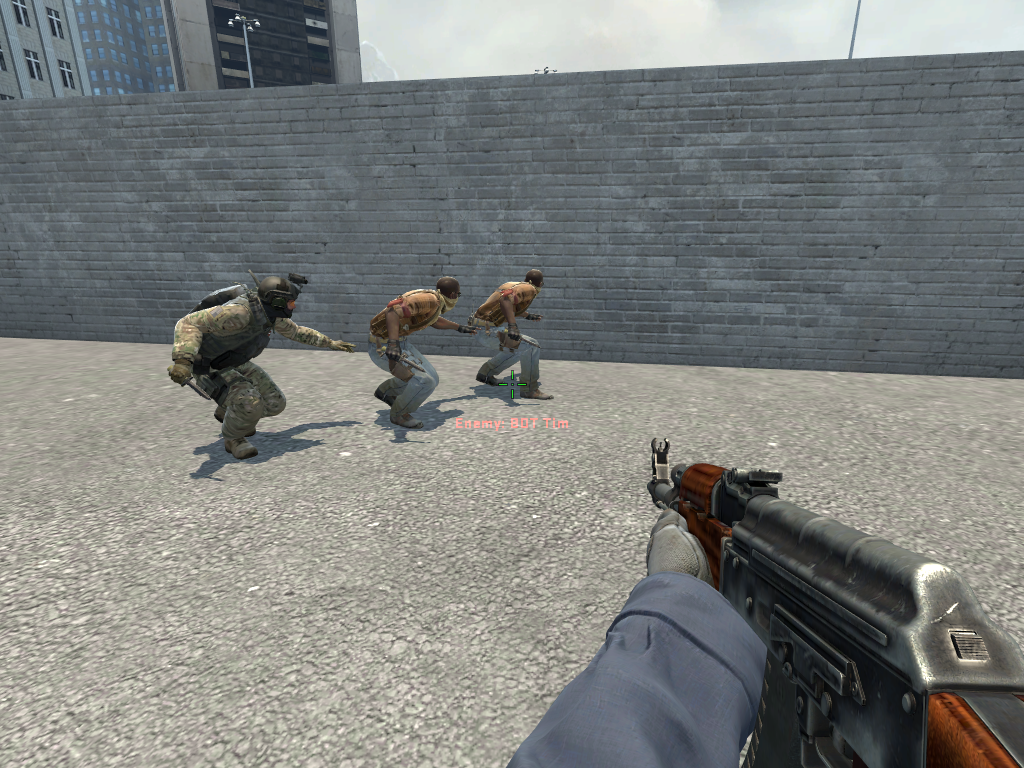ct head: (252, 271, 308, 318)
tr head: (433, 273, 463, 309), (523, 266, 548, 290)
